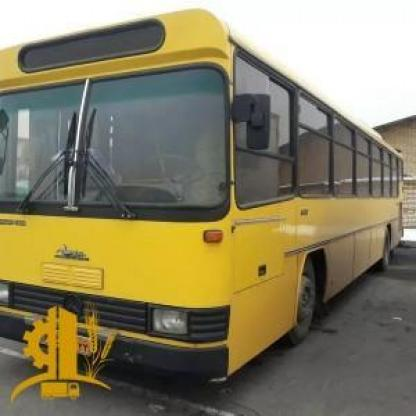Bus: (0, 0, 416, 377)
